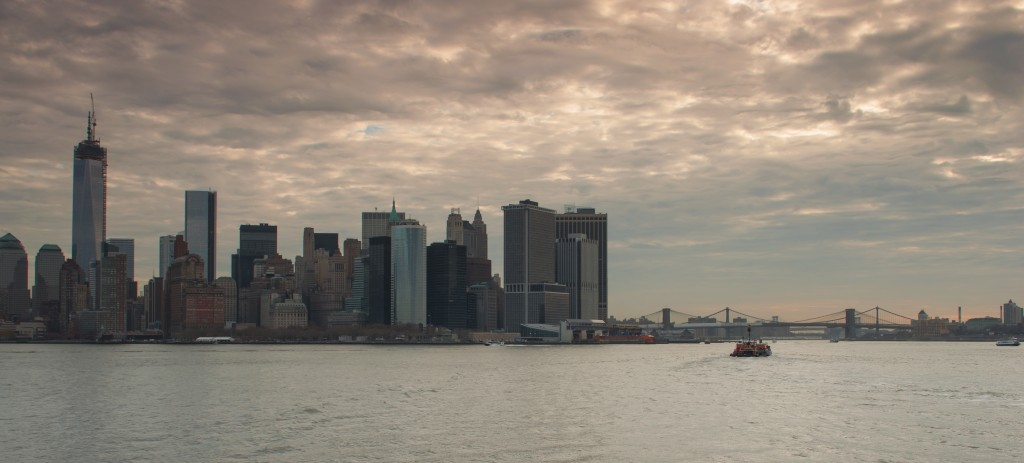wtc: (72, 92, 105, 269)
